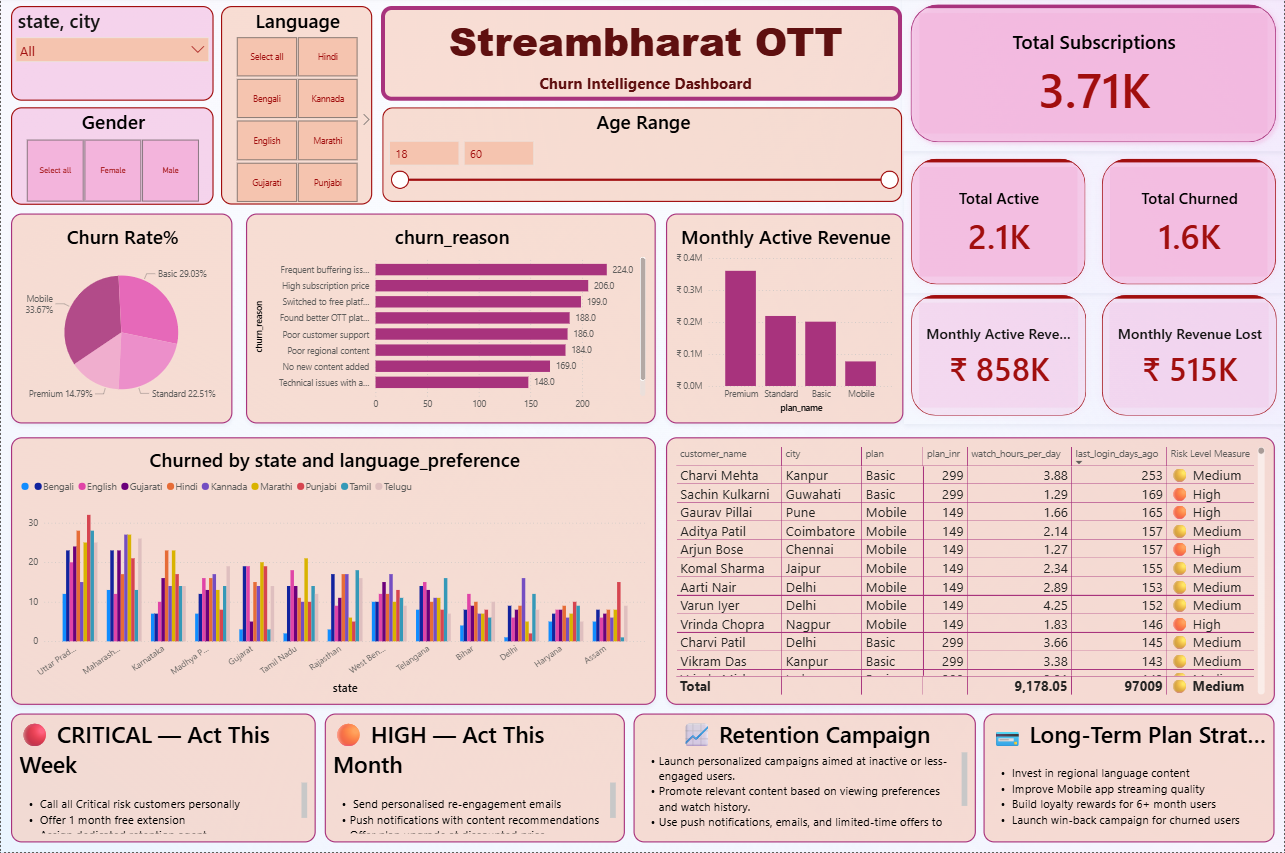

This screenshot's page, from the dashboard's own definition file:
{"tool":"powerbi","page":{"name":"OTT churn analysis","canvas":[1800,1200],"ordinal":0},"visuals":[{"type":"pieChart","title":"Churn Rate% ","fields":{"Category":["dim_plans.plan_name"],"Y":["_Measures.Churn Rate%"]},"box":[14,304.9,310.2,294.4],"z":0},{"type":"clusteredBarChart","title":" churn_reason","fields":{"Y":["_Measures.Total Churned"],"Category":["fact_subscriptions.churn_reason"]},"box":[343.5,304.9,574.8,294.4],"z":1000},{"type":"tableEx","fields":{"Values":["dim_customers.customer_name","dim_customers.city","dim_plans.plan_name","dim_plans.price_inr","Sum(fact_usage.avg_watch_hours_per_day)","Sum(fact_usage.last_login_days_ago)","_Measures.Risk Level Measure"]},"box":[932.2,618.6,853.4,375],"z":2000},{"type":"textbox","title":"🔴 CRITICAL — Act This Week","box":[14,1005.8,427.6,180.5],"z":3000},{"type":"textbox","title":"🟠 HIGH — Act This Month","box":[453.9,1005.8,420.6,180.5],"z":4000},{"type":"textbox","title":"💳 Long-Term Plan Strategy","box":[1377.3,1005.8,408.3,180.5],"z":5000},{"type":"cardVisual","fields":{"Data":["_Measures.Total Subscriptions"]},"box":[1263.4,0,536.2,217.3],"z":6000},{"type":"cardVisual","fields":{"Data":["_Measures.Total Active","_Measures.Total Churned"]},"box":[1265.2,217.3,534.5,198],"z":7000},{"type":"cardVisual","fields":{"Data":["_Measures.Monthly Active Revenue","_Measures.Monthly Revenue Lost"]},"box":[1265.2,408.3,534.5,191],"z":8000},{"type":"columnChart","title":"Monthly Active Revenue","fields":{"Y":["_Measures.Monthly Active Revenue"],"Category":["dim_plans.plan_name"]},"box":[932.2,304.9,332.9,294.4],"z":9000},{"type":"clusteredColumnChart","title":"Churned by state and language_preference","fields":{"Category":["dim_customers.state"],"Y":["_Measures.Total Churned"],"Series":["dim_customers.language_preference"]},"box":[14,618.6,904.2,375],"z":10000},{"type":"textbox","title":"Streambharat OTT  ","box":[532.7,14,730.7,133.2],"z":11000},{"type":"slicer","title":"state","fields":{"Values":["dim_customers.state","dim_customers.city"]},"box":[14,14,283.9,133.2],"z":12000},{"type":"slicer","title":"Gender","fields":{"Values":["dim_customers.gender"]},"box":[14,156,283.9,136.7],"z":13000},{"type":"slicer","title":"Language","fields":{"Values":["dim_customers.language_preference"]},"box":[308.4,14,212,278.6],"z":14000},{"type":"slicer","title":"Age Range","fields":{"Values":["dim_customers.age"]},"box":[534.5,156,729,133.2],"z":15000},{"type":"textbox","title":"📈 Retention Campaign","box":[886.7,1005.8,480.1,180.5],"z":16000}]}

Visuals, with their boxes in screenshot pixels (x1, y1, x2, y2), scaled from the page's 1800x1200 canvas onto the 1285x853 screenshot:
"Churn Rate% " pieChart: <bbox>10, 217, 231, 426</bbox>
" churn_reason" clusteredBarChart: <bbox>245, 217, 656, 426</bbox>
tableEx - dim_customers.customer_name x dim_customers.city: <bbox>665, 440, 1275, 706</bbox>
"🔴 CRITICAL — Act This Week" textbox: <bbox>10, 715, 315, 843</bbox>
"🟠 HIGH — Act This Month" textbox: <bbox>324, 715, 624, 843</bbox>
"💳 Long-Term Plan Strategy" textbox: <bbox>983, 715, 1275, 843</bbox>
cardVisual - _Measures.Total Subscriptions: <bbox>902, 0, 1284, 154</bbox>
cardVisual - _Measures.Total Active x _Measures.Total Churned: <bbox>903, 154, 1284, 295</bbox>
cardVisual - _Measures.Monthly Active Revenue x _Measures.Monthly Revenue Lost: <bbox>903, 290, 1284, 426</bbox>
"Monthly Active Revenue" columnChart: <bbox>665, 217, 903, 426</bbox>
"Churned by state and language_preference" clusteredColumnChart: <bbox>10, 440, 655, 706</bbox>
"Streambharat OTT  " textbox: <bbox>380, 10, 902, 105</bbox>
"state" slicer: <bbox>10, 10, 213, 105</bbox>
"Gender" slicer: <bbox>10, 111, 213, 208</bbox>
"Language" slicer: <bbox>220, 10, 372, 208</bbox>
"Age Range" slicer: <bbox>382, 111, 902, 206</bbox>
"📈 Retention Campaign" textbox: <bbox>633, 715, 976, 843</bbox>
